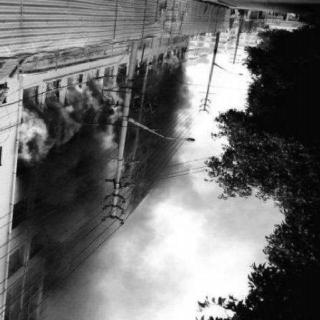Fire: (17, 67, 115, 157), (166, 53, 184, 73), (147, 54, 160, 74)
Smoke: (18, 169, 110, 313), (130, 76, 203, 210)
